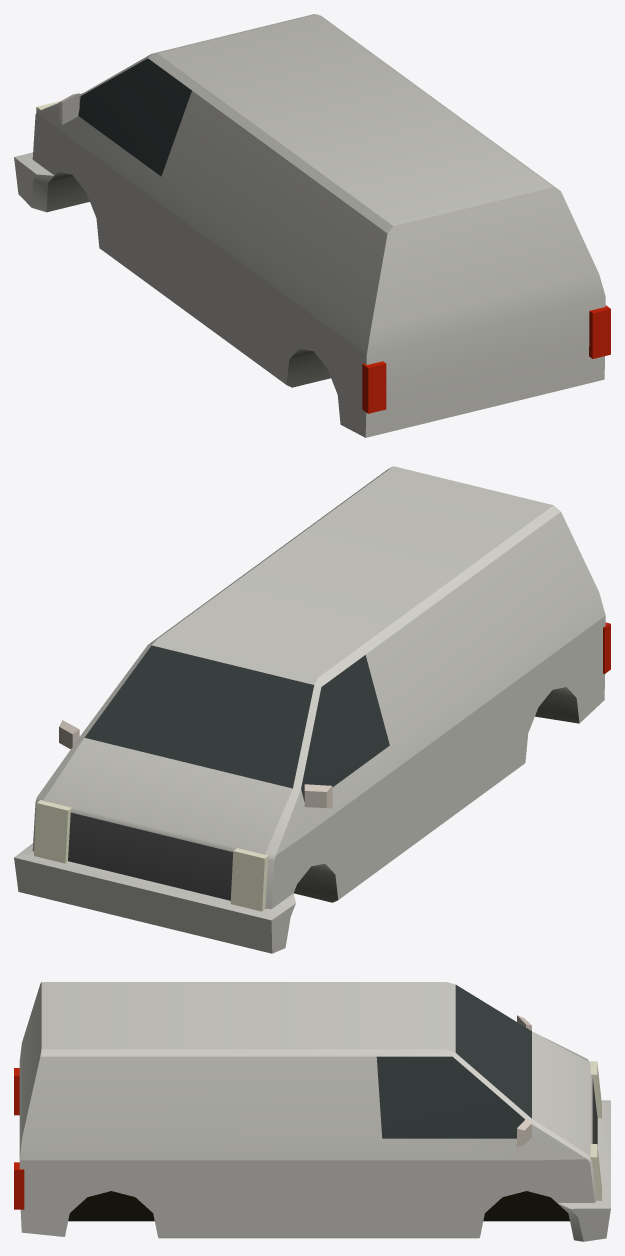
The model's file is van.fbx.
3 views of the same model, one above another, from view 1: azimuth 30°, elevation 25°; view 2: azimuth 150°, elevation 25°; view 3: azimuth 270°, elevation 25° (orthographic). The views are drawn at different scales.
Parts seen in each view (by area): view 1: van; view 2: van; view 3: van.
Part boxes in pixels (x1,y1,x2,y2): van: (14,14,610,437); van: (14,466,610,953); van: (14,982,610,1241).
Size of the model in its own units: 228 by 507 by 164.
